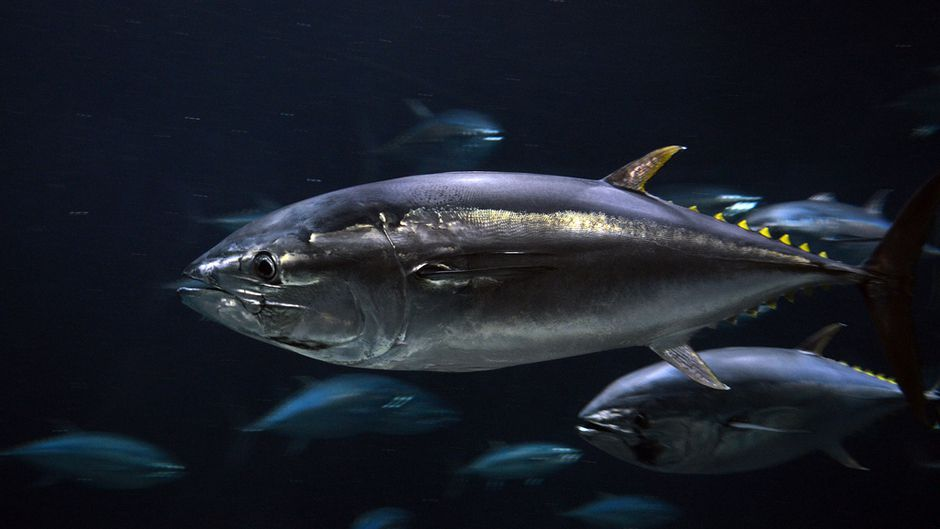Bluefina Tuna: (183, 144, 913, 381), (582, 358, 940, 486)
